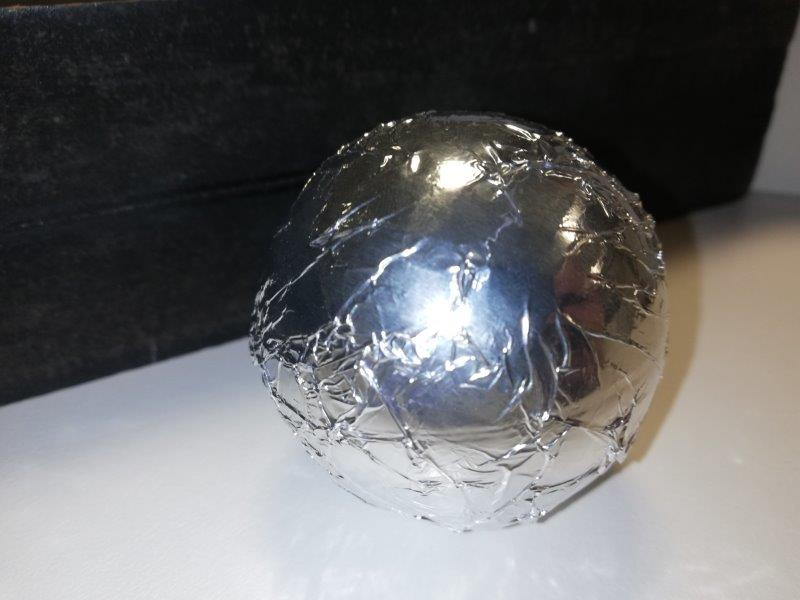bianca: (253, 108, 672, 535)
